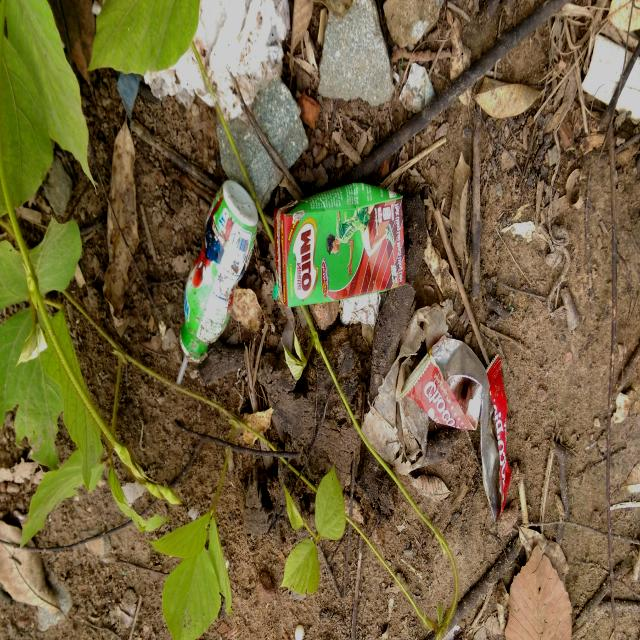Drink carton: (273, 183, 406, 307)
Other plastic: (401, 335, 511, 523)
Other plastic container: (180, 180, 258, 361)
Plastic straw: (177, 356, 188, 384)
Unlabeled litter: (144, 1, 293, 123), (361, 299, 456, 475), (338, 293, 383, 329)
